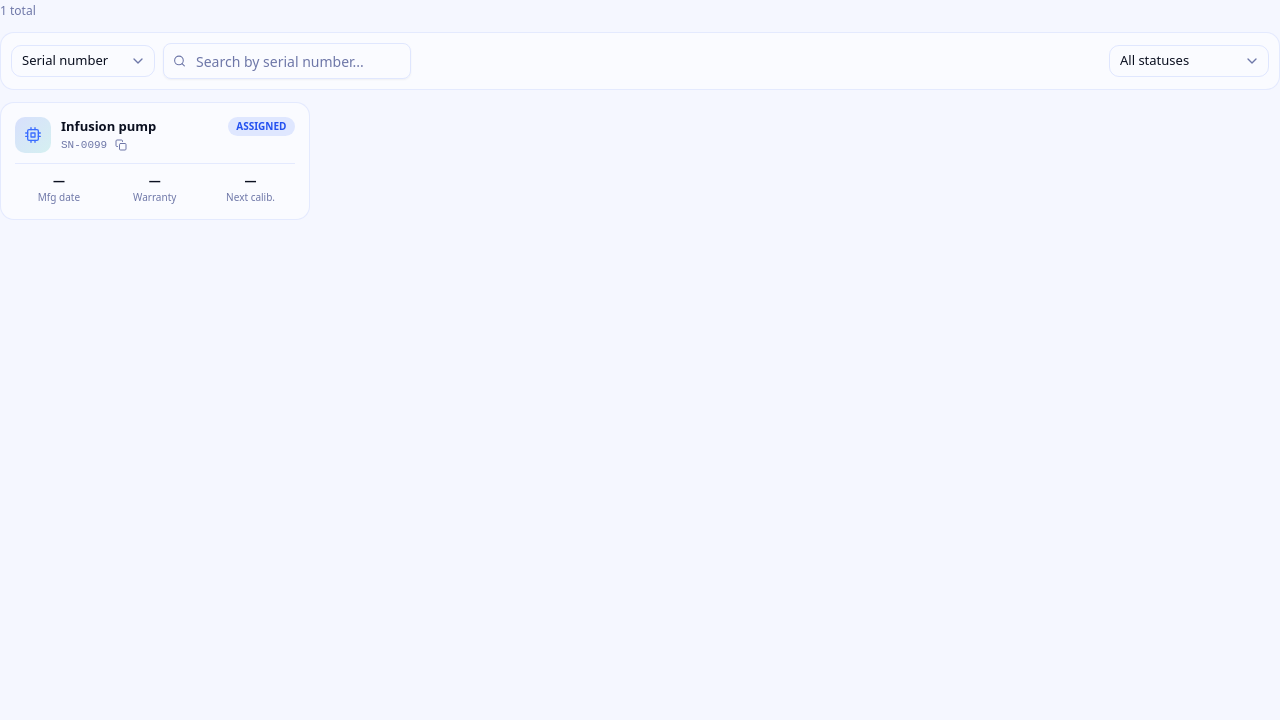
Test case: InventoryDevicesPanel — card click opens a detail drawer, Edit lives inside it › a non-manager can still open the drawer by clicking a card, but sees no Edit button inside it
Click the text "SN-0099" at (84, 145), box [61, 136, 107, 153]
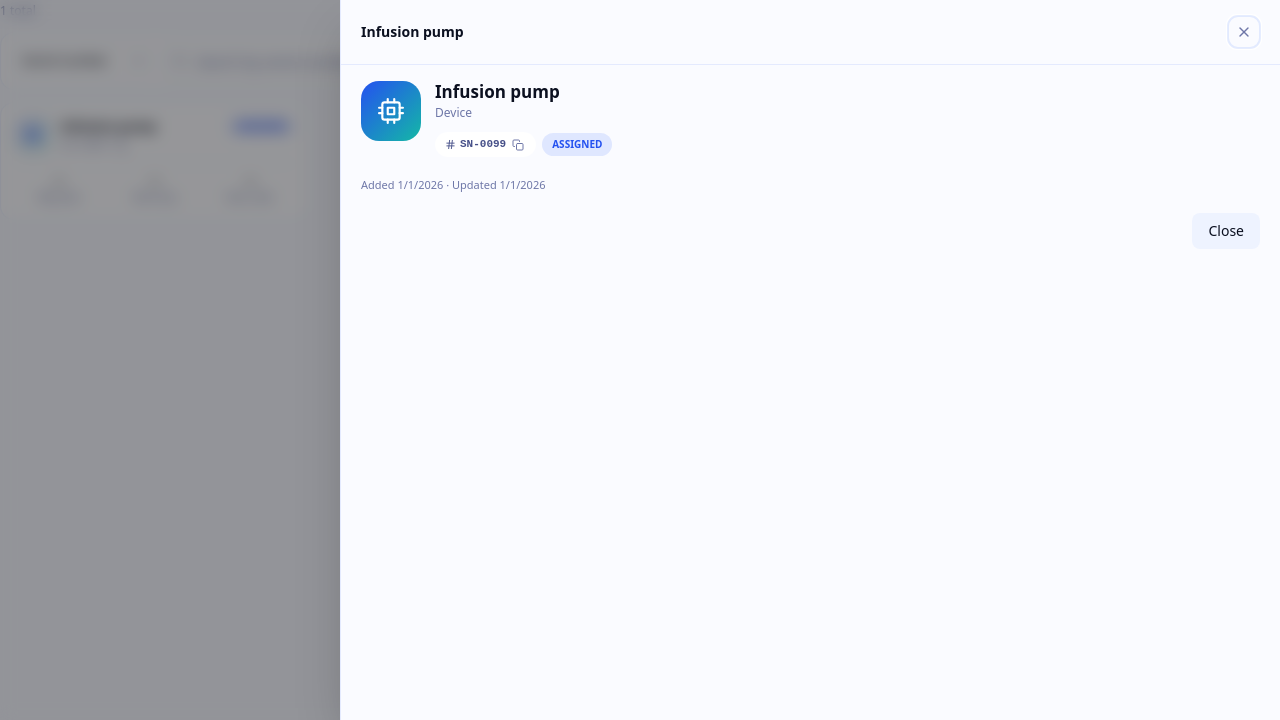
Expected: the heading "Infusion pump" is shown, [361, 22, 464, 42]
